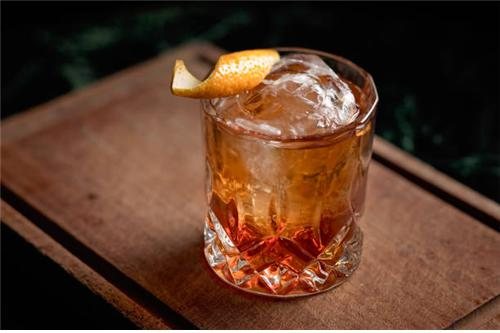alcohol: (200, 45, 378, 297)
